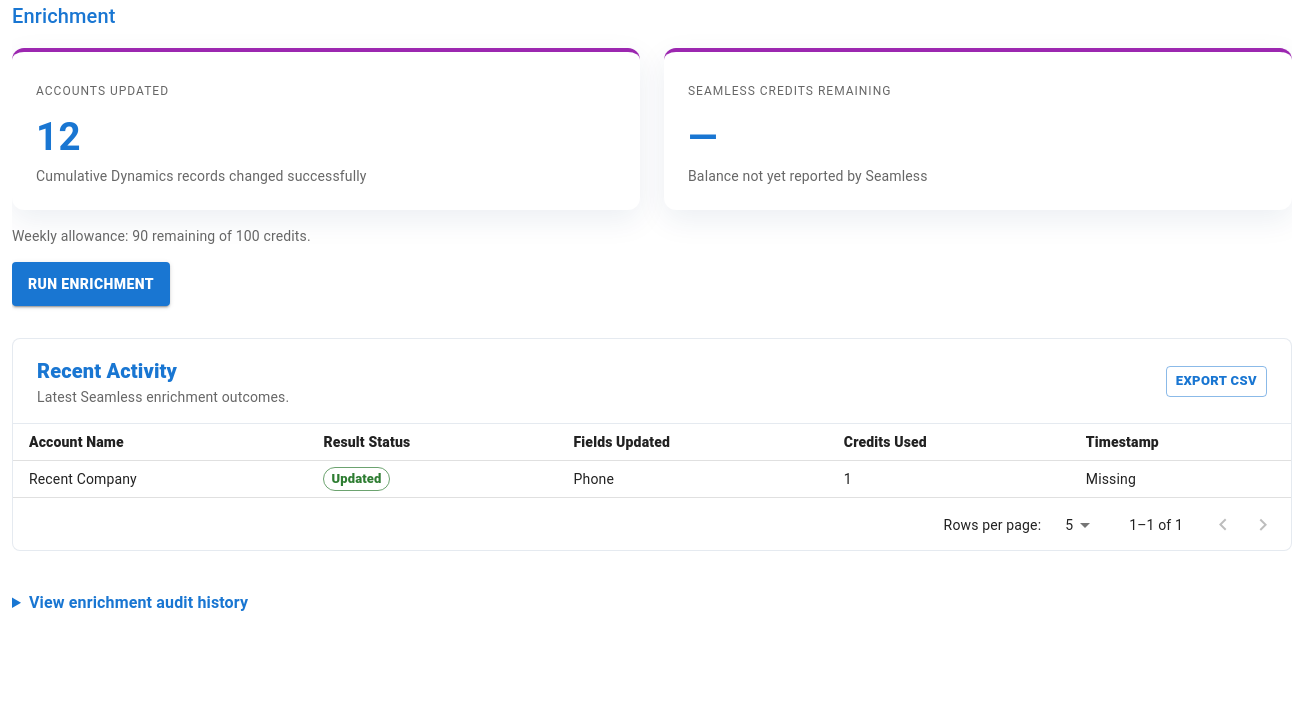
it: preserves the authenticated enrichment request and refreshes metrics on success
Click the button "Run Enrichment" at (91, 284), box [12,262,170,306]
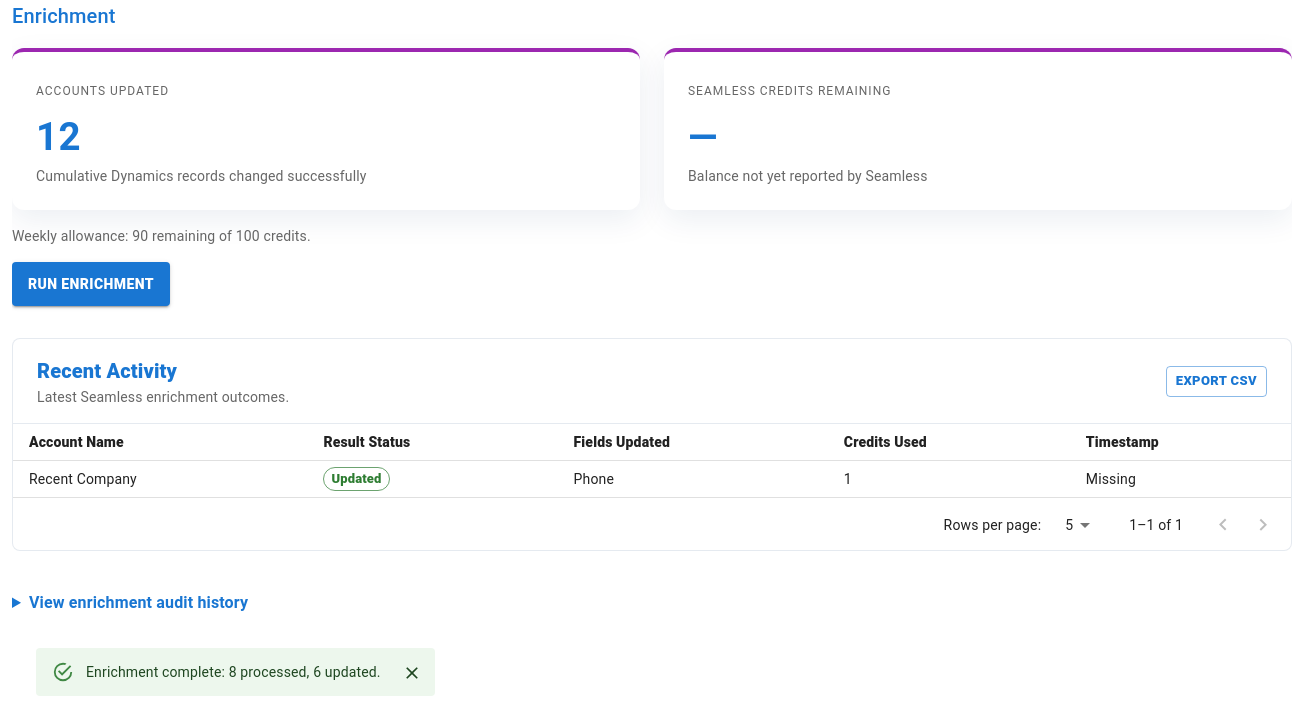
expect the text "Enrichment complete: 8 processed, 6 updated." is shown: met, box [86,664,381,680]
